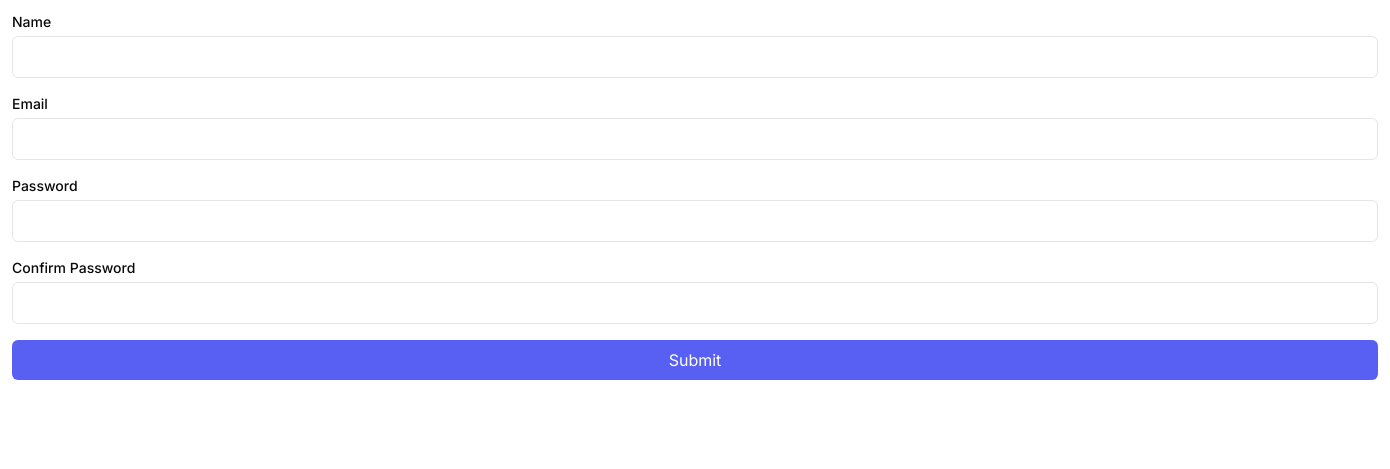
Test: ExampleForm › should show validation errors for empty fields
Click the button "Submit" at (695,360), box [12,340,1378,380]
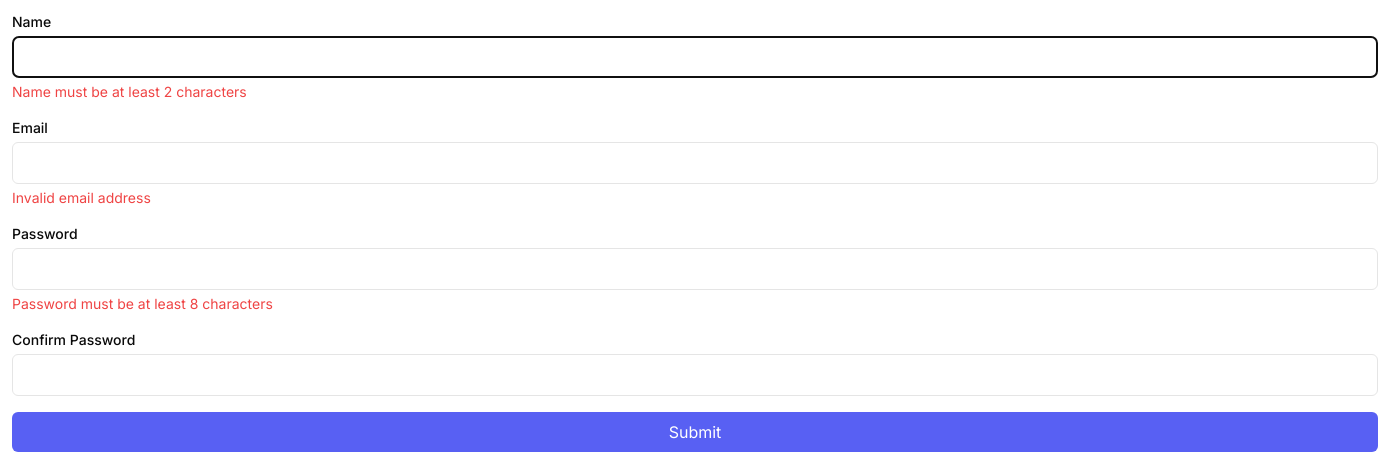
Check: the text "Name must be at least 2 characters" is shown, box [12,83,247,100]
Check: the text "Invalid email address" is shown, box [12,189,151,206]
